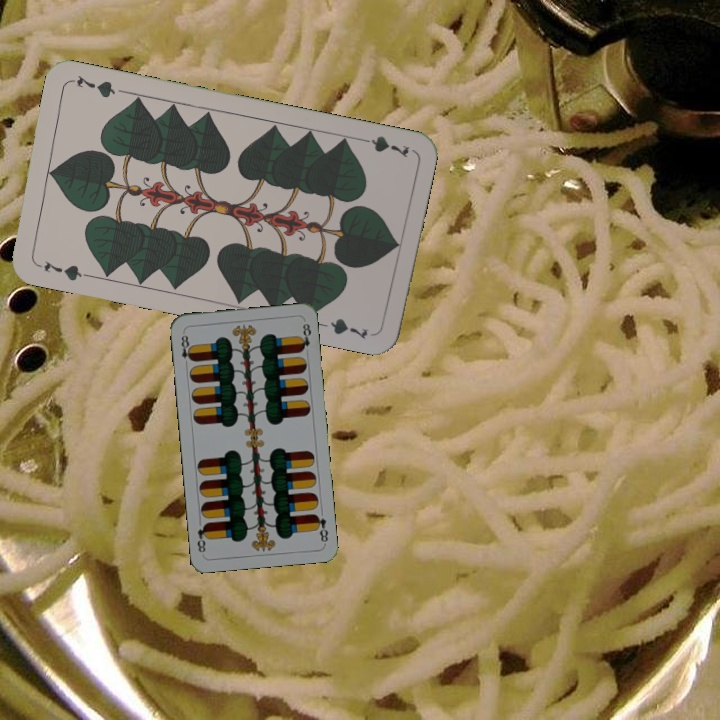E8: (177, 328, 195, 369), (311, 510, 331, 545)
G7: (354, 131, 412, 161), (32, 257, 90, 284)
